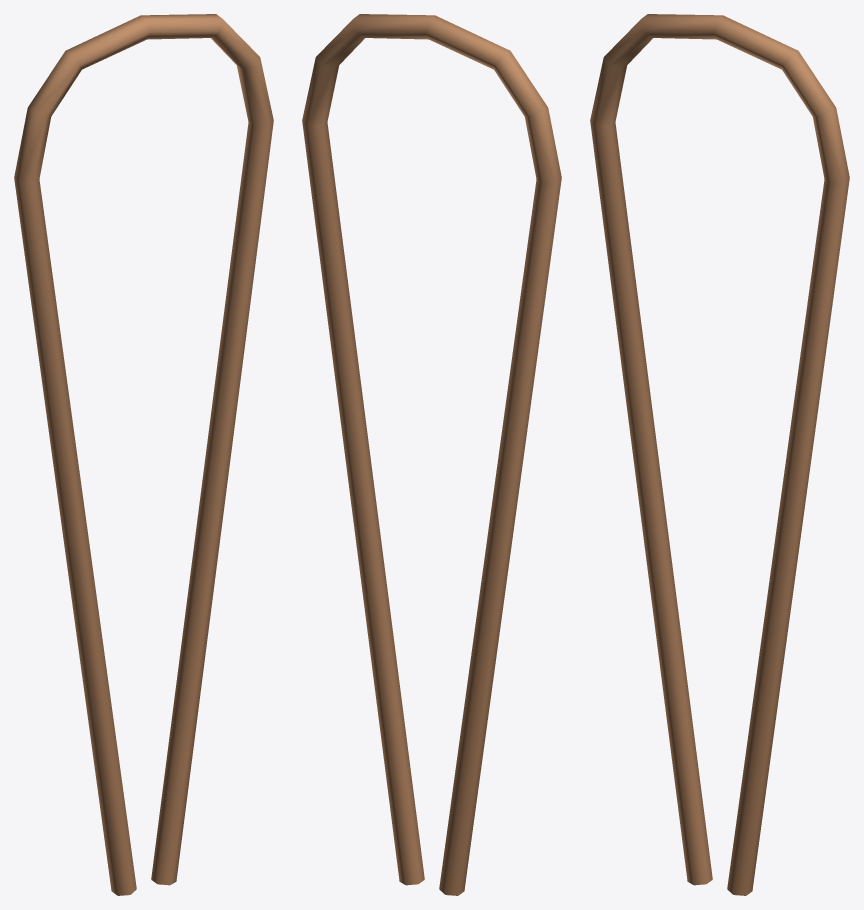
Rendered from HangingRope1.fbx.
3 views of the same model, side by side, from view 1: azimuth 30°, elevation 25°; view 2: azimuth 150°, elevation 25°; view 3: azimuth 330°, elevation 25° (orthographic).
Parts seen in each view (by area): view 1: HangingRope1; view 2: HangingRope1; view 3: HangingRope1.
Part boxes in pixels (x1,y1,x2,y2): HangingRope1: (14, 14, 273, 895); HangingRope1: (302, 14, 561, 895); HangingRope1: (590, 14, 849, 895).
Size of the model in its own units: 8.06 by 26.42 by 0.7.
